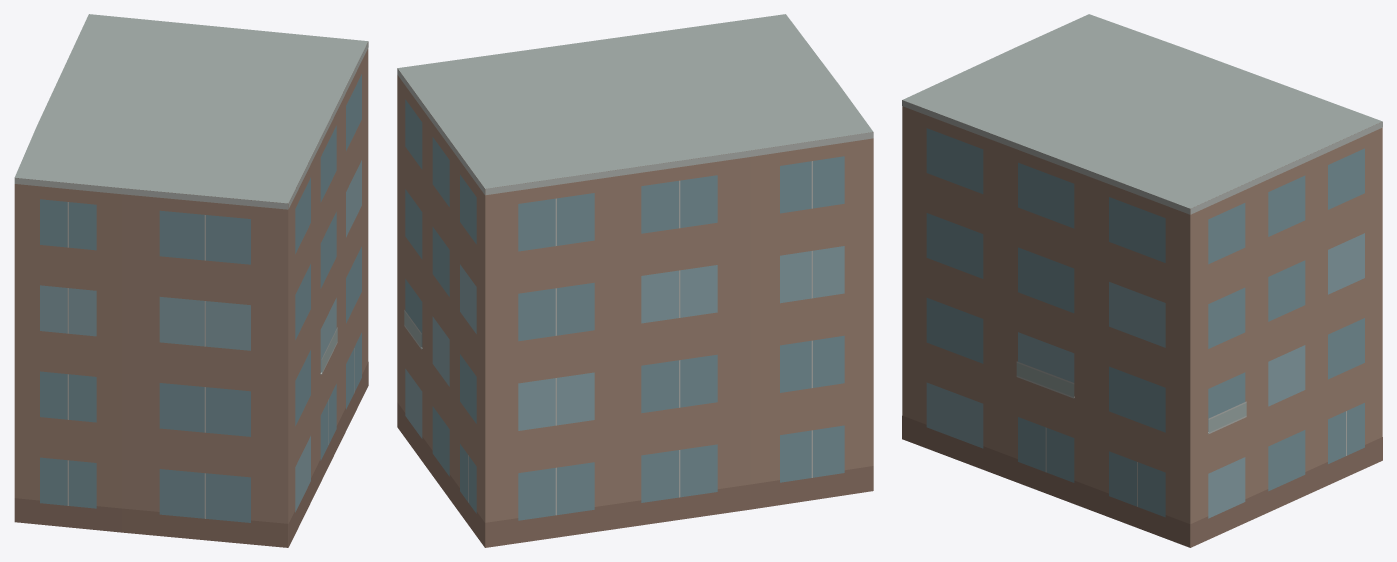
File: survey-upis-32971380.glb
3 renders of one model, left to right at view 1: azimuth 30°, elevation 25°; view 2: azimuth 150°, elevation 25°; view 3: azimuth 270°, elevation 25°, orthographic. The views are drawn at different scales.
Parts seen in each view (by area): view 1: survey-upis-32971380.tmp; view 2: survey-upis-32971380.tmp; view 3: survey-upis-32971380.tmp.
Part boxes in pixels (box(x1,y1,x2,y2)): survey-upis-32971380.tmp: box(14, 14, 368, 547); survey-upis-32971380.tmp: box(397, 14, 873, 547); survey-upis-32971380.tmp: box(902, 14, 1382, 547).
Size of the model in its own units: 16.82 by 13.65 by 17.54.
